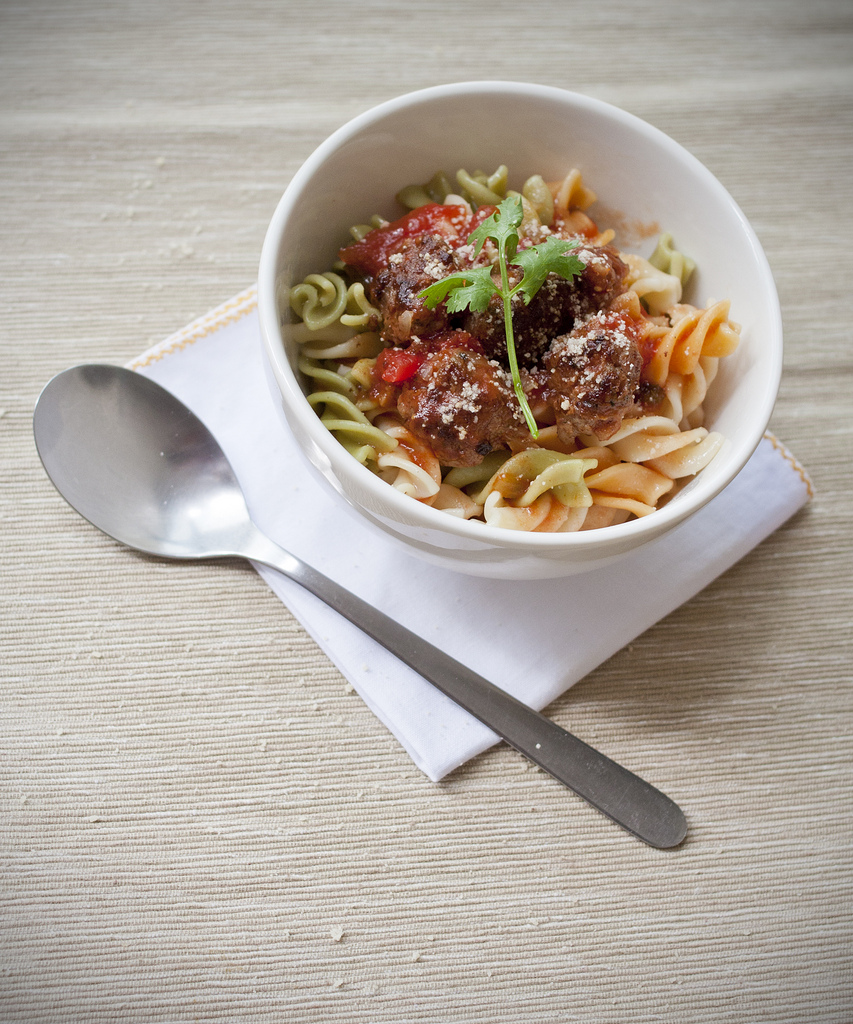meatballs: (536, 321, 639, 429), (398, 237, 504, 337), (405, 339, 504, 446)
plain spaghetti: (297, 273, 420, 474), (398, 443, 680, 529), (640, 281, 748, 473)
